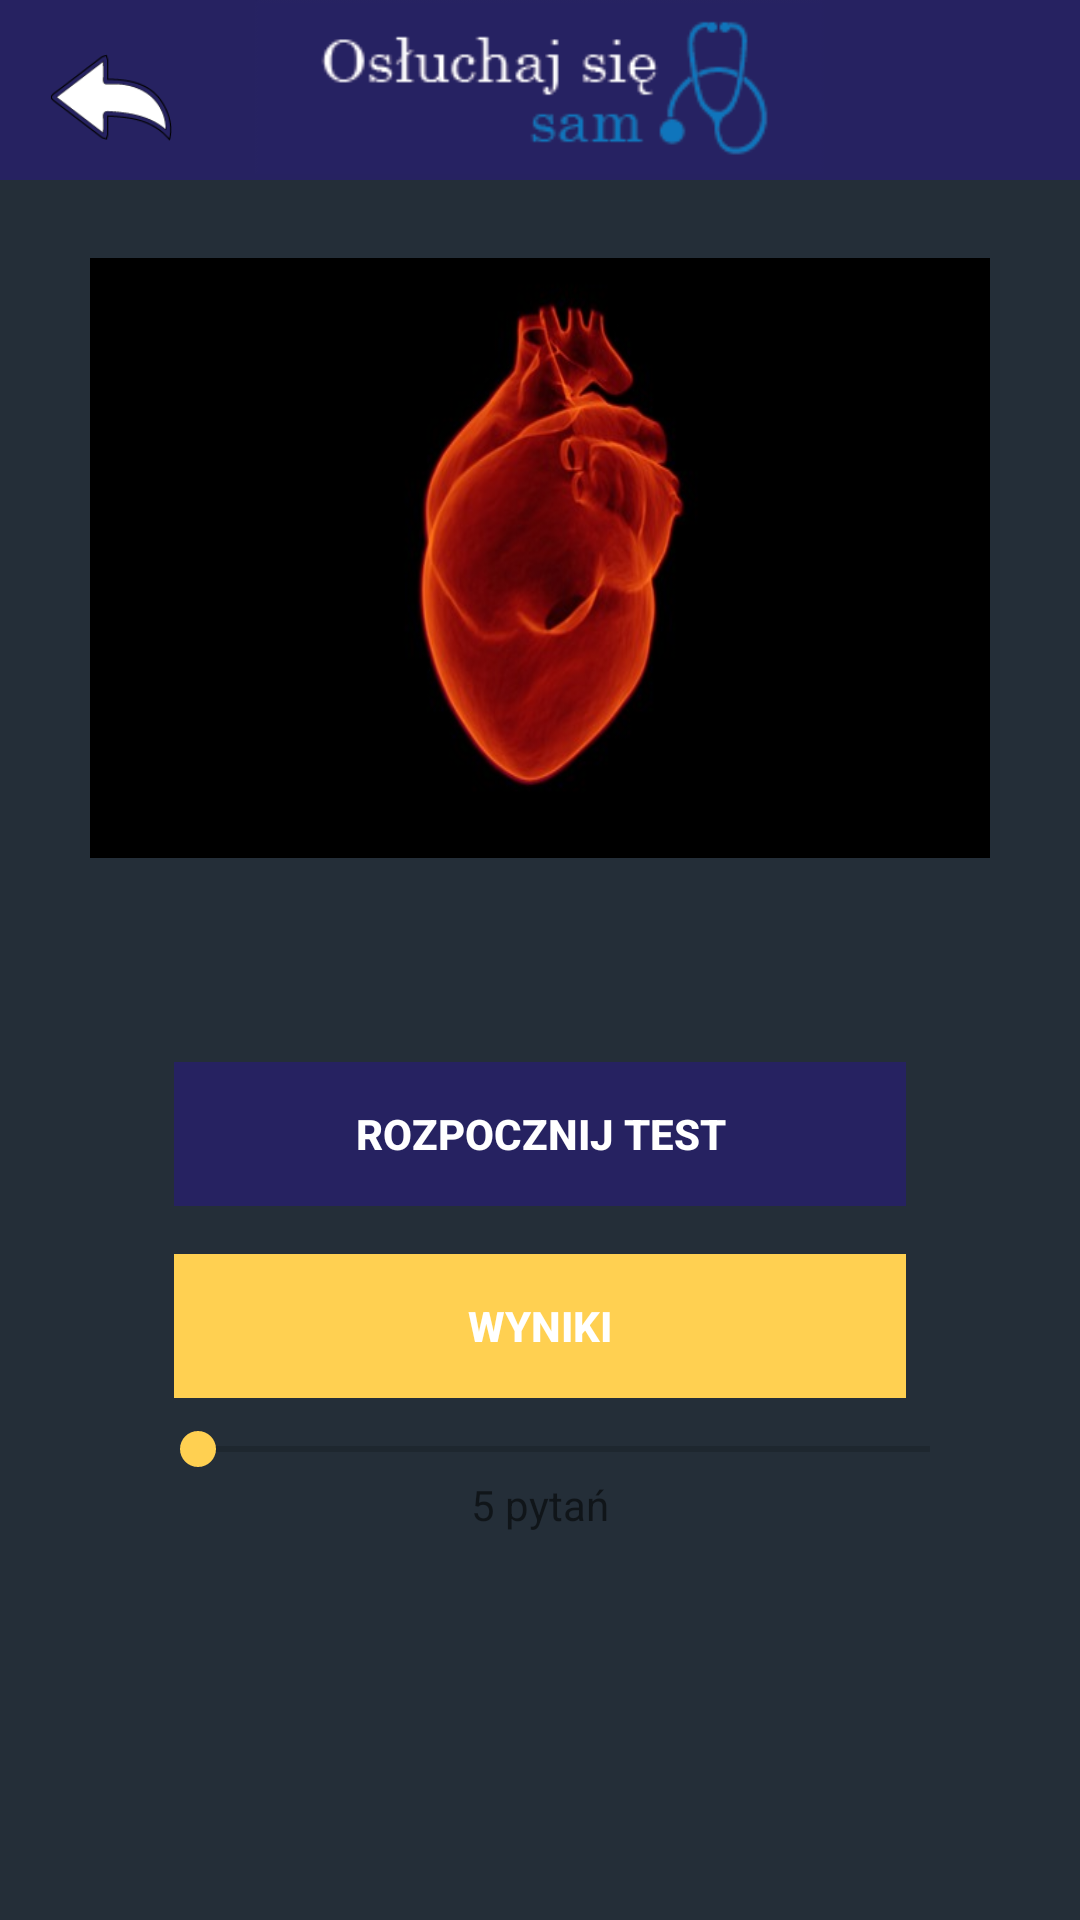

Icons on this 1080 × 1920 Android screen, each with the point to tap as (x=x, y=y):
back: (x=111, y=98)
